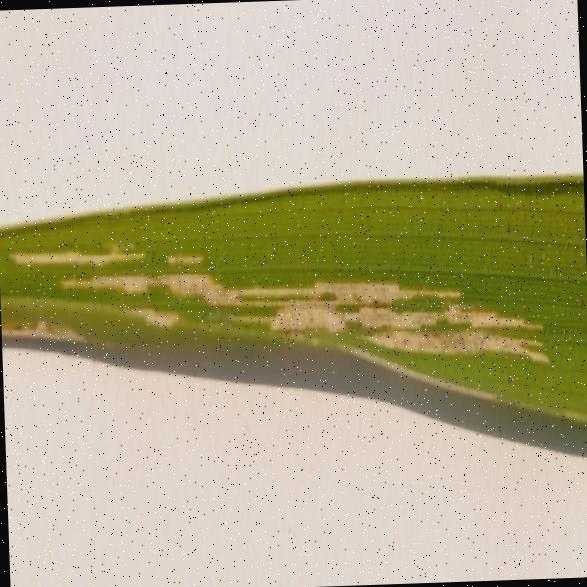Bacteria_Leaf_Blight: (3, 214, 560, 430)
